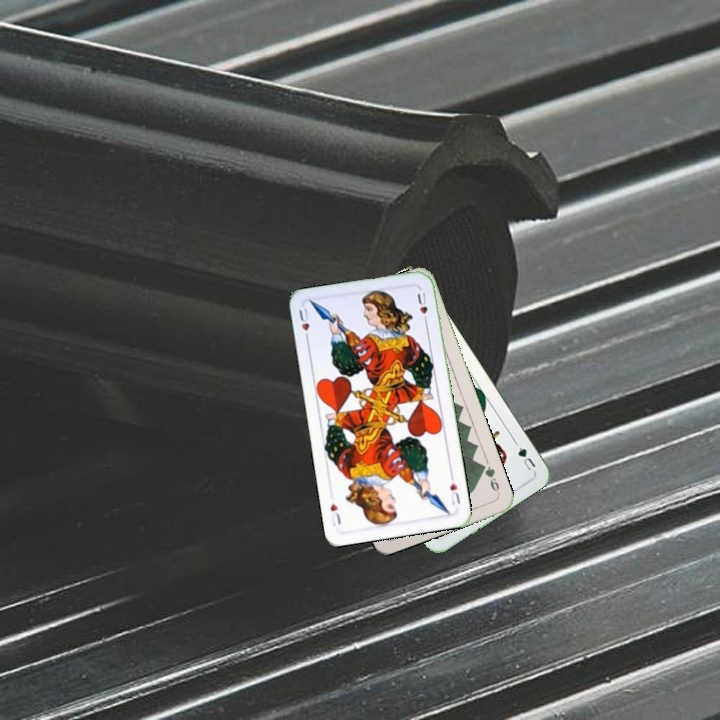G9: (477, 460, 503, 498)
GU: (514, 443, 538, 473)
HU: (295, 304, 312, 344), (446, 471, 463, 508)
